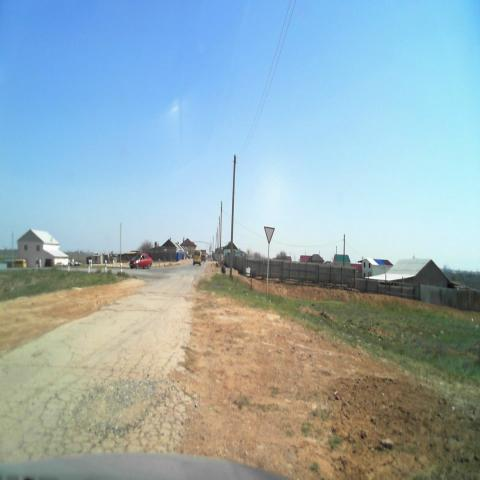2_4: (264, 225, 275, 245)
